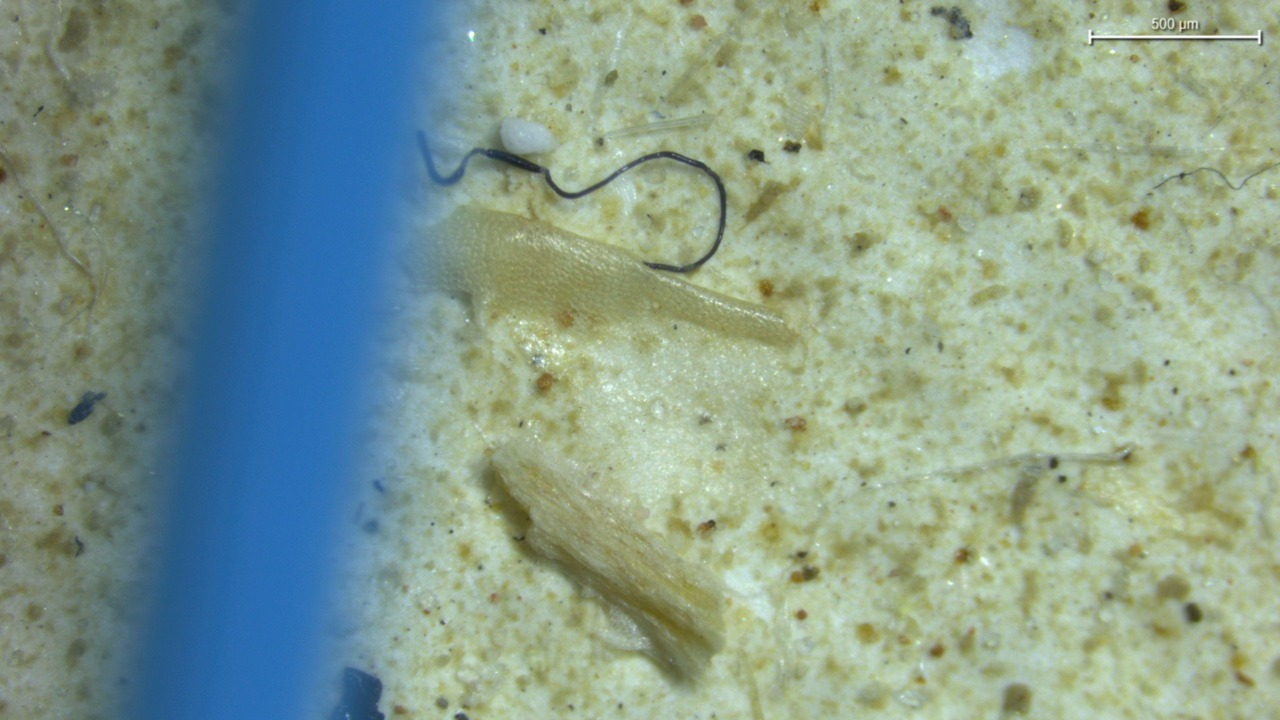microplastic_fragment: (432, 208, 799, 681), (499, 117, 554, 155)
